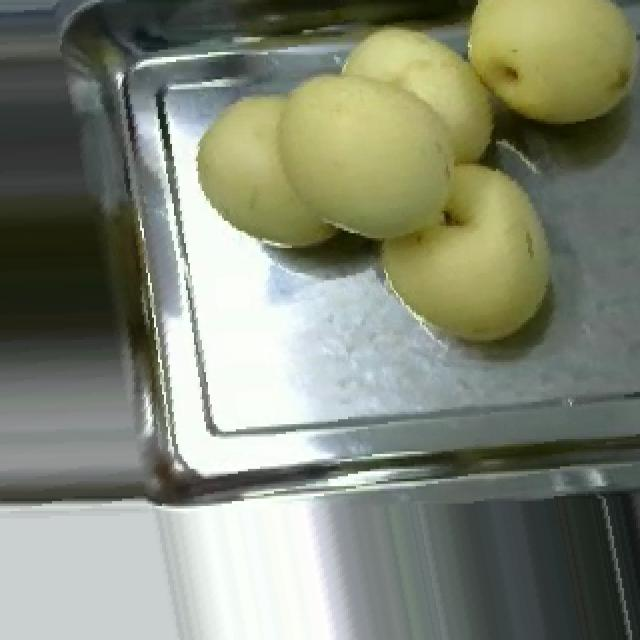Fruit: (180, 40, 510, 265), (374, 149, 566, 355), (440, 0, 640, 139)
